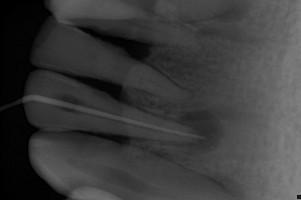Furcation Involvement: (173, 109, 225, 154), (193, 23, 256, 43), (203, 172, 244, 200), (215, 0, 254, 21)
